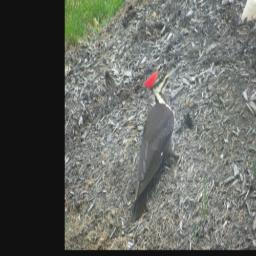Woodpecker: (126, 63, 185, 222)
